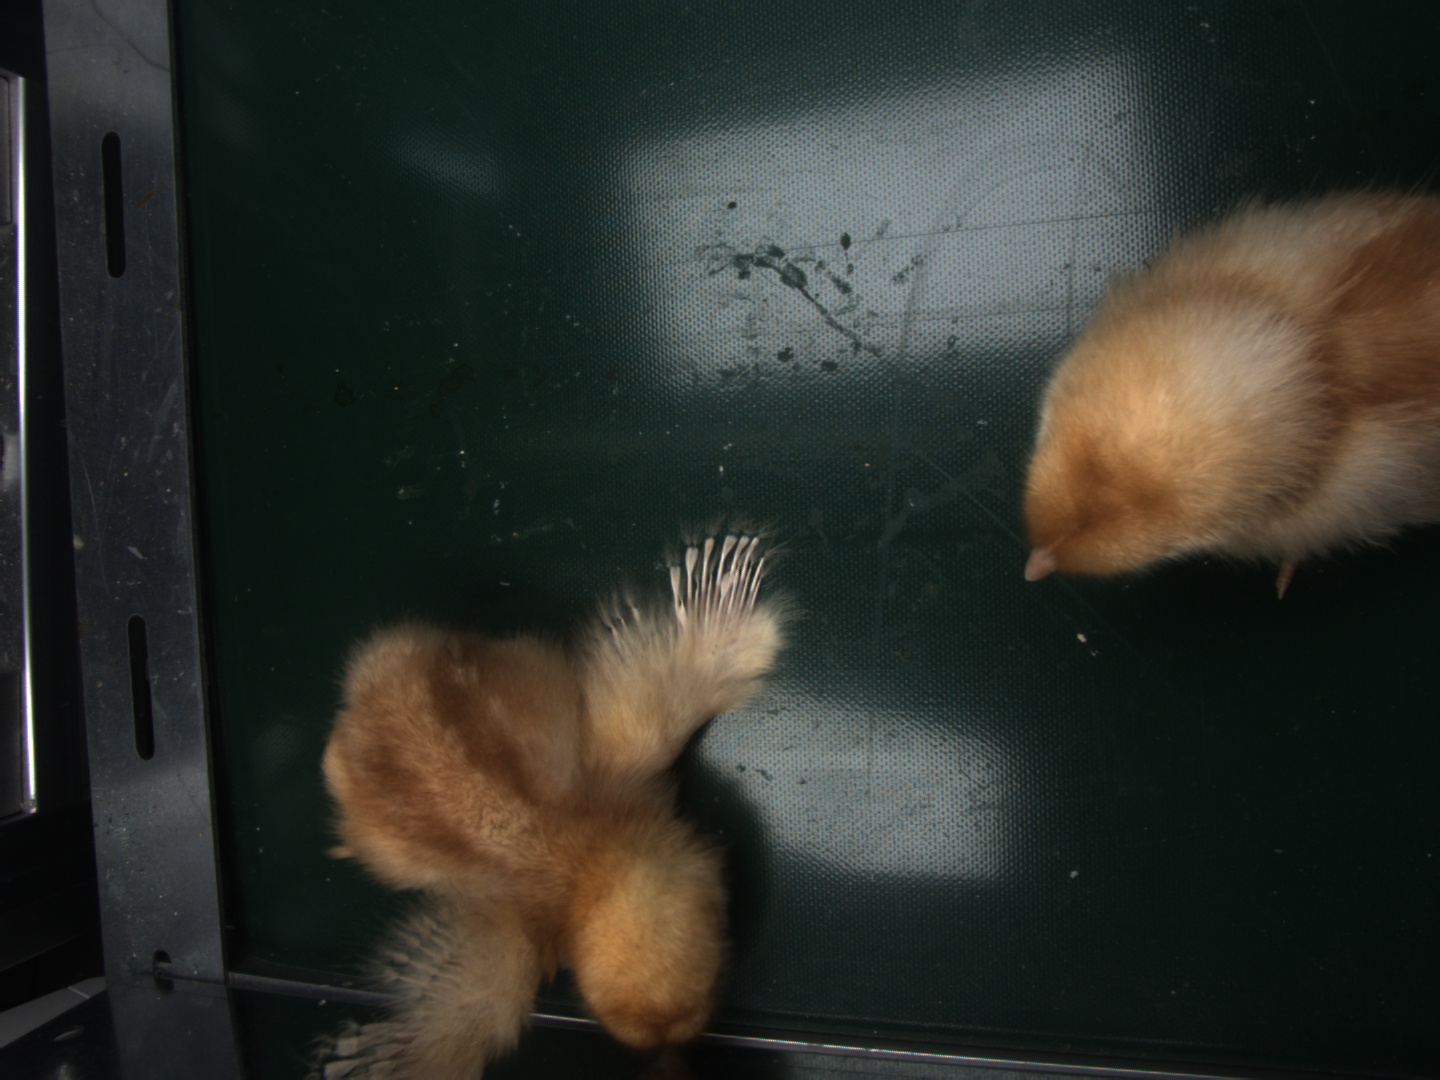female: (668, 533, 766, 621)
